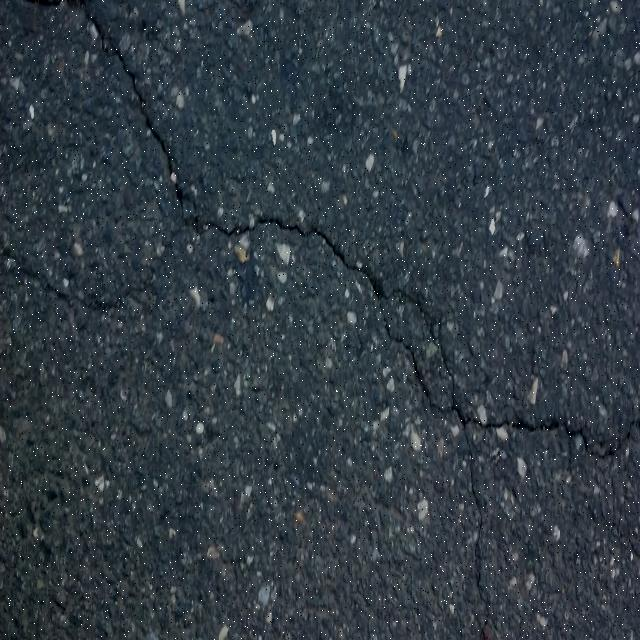Crack: (0, 0, 640, 462)
